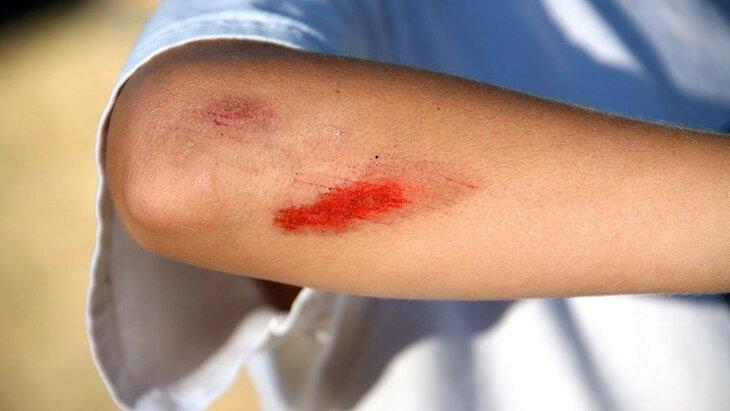Fire: (274, 180, 412, 231)
